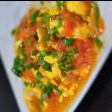fanqiechaojidan: (11, 0, 104, 112)
